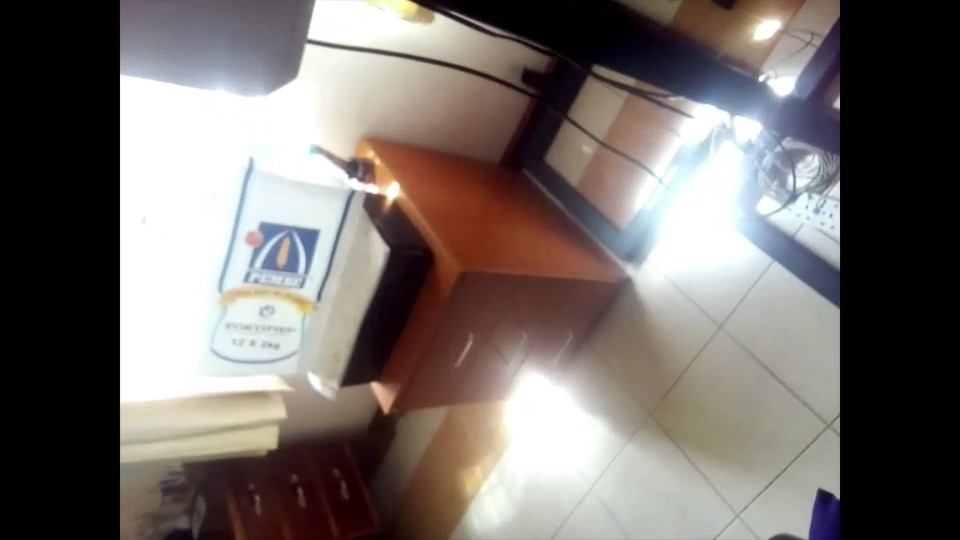wheat_flour_blue_label: (198, 153, 369, 397)
